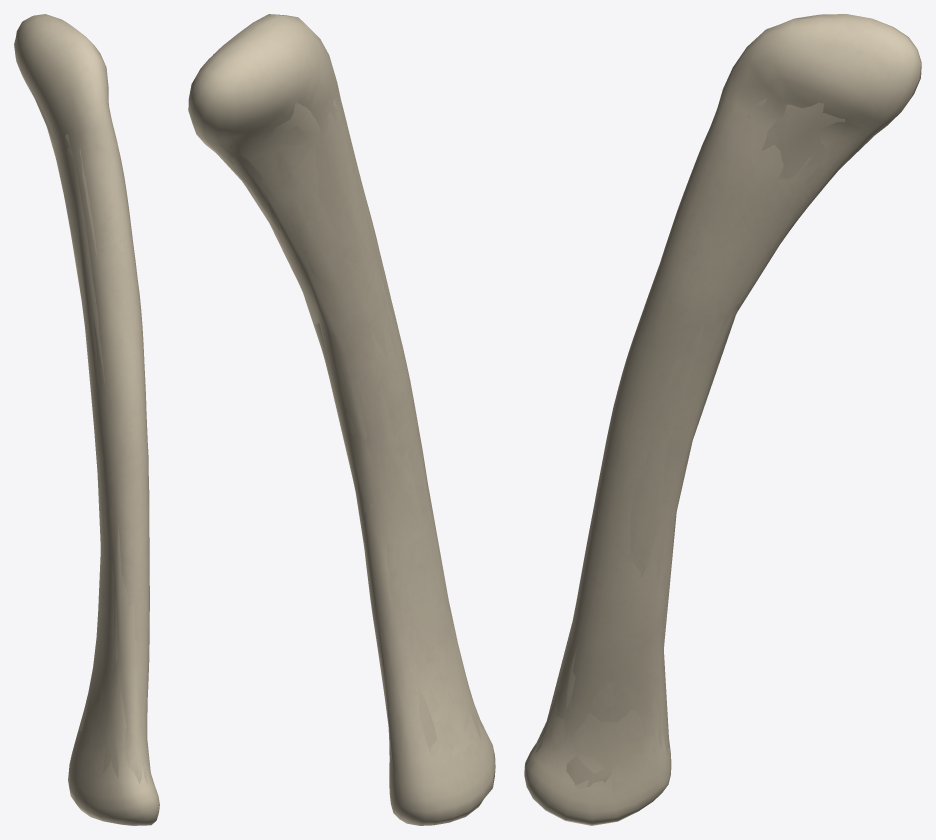
Rendered from R metacarpi quartum.fbx.
3 views of the same model, side by side, from view 1: azimuth 30°, elevation 25°; view 2: azimuth 150°, elevation 25°; view 3: azimuth 270°, elevation 25° (orthographic). The views are drawn at different scales.
Parts seen in each view (by area): view 1: R metacarpi quartum high, R metacarpi quartum low, R metacarpi quartum; view 2: R metacarpi quartum high, R metacarpi quartum low, R metacarpi quartum; view 3: R metacarpi quartum high, R metacarpi quartum low, R metacarpi quartum.
Boxes of the visible parts, box(x1,y1,x2,y2) form: R metacarpi quartum high: box(14, 14, 159, 825); R metacarpi quartum low: box(30, 88, 150, 784); R metacarpi quartum: box(47, 102, 148, 777); R metacarpi quartum high: box(188, 14, 495, 825); R metacarpi quartum low: box(215, 99, 484, 780); R metacarpi quartum: box(223, 94, 477, 764); R metacarpi quartum high: box(524, 14, 921, 825); R metacarpi quartum low: box(535, 98, 872, 787); R metacarpi quartum: box(543, 79, 873, 794).
Size of the model in its own units: 2.09 by 12.36 by 5.42.
